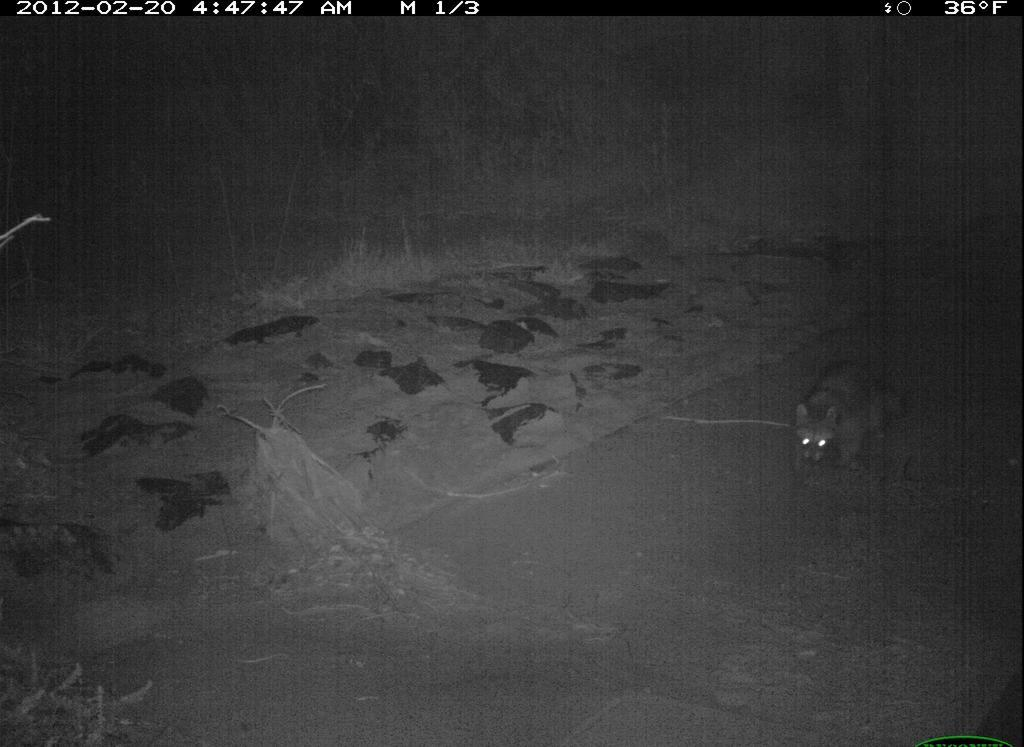raccoon: (724, 346, 941, 519)
